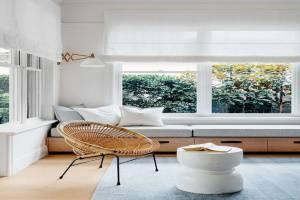window: (114, 63, 297, 116)
